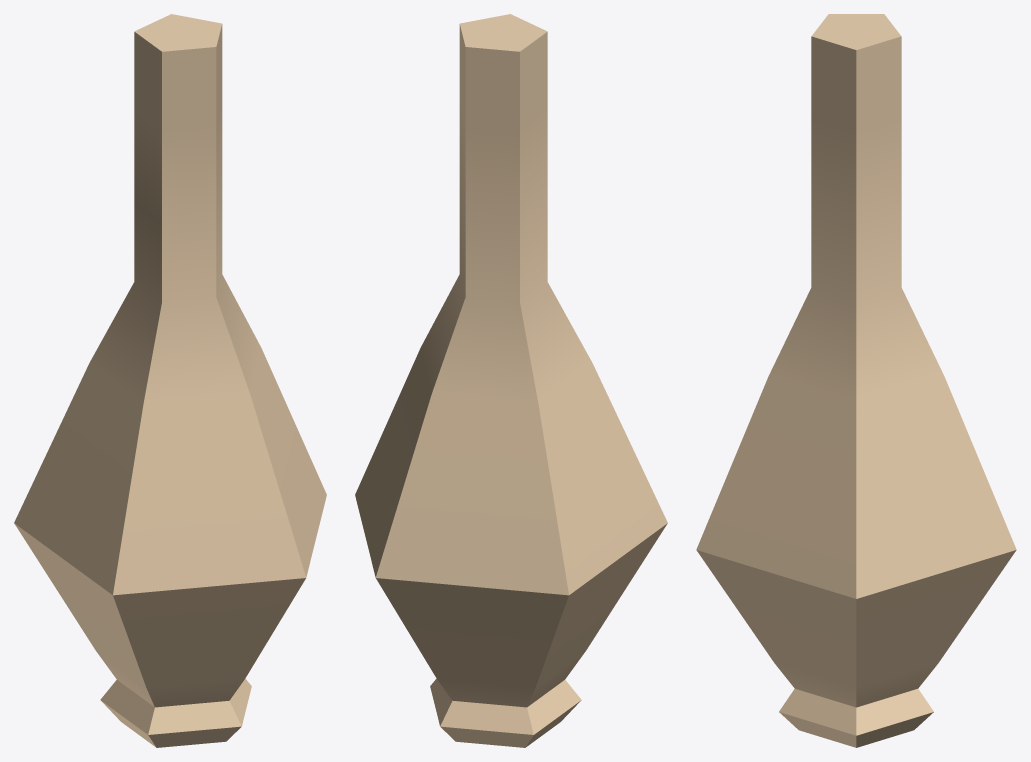
File: Props_jar_02.fbx
3 renders of one model, left to right at view 1: azimuth 30°, elevation 25°; view 2: azimuth 150°, elevation 25°; view 3: azimuth 270°, elevation 25°, orthographic.
Visible parts, largest first — view 1: jar6; view 2: jar6; view 3: jar6.
Boxes of the visible parts, left/top/right/bottom form: jar6: left=14, top=14, right=326, bottom=747; jar6: left=355, top=14, right=667, bottom=747; jar6: left=696, top=14, right=1016, bottom=747.
Size of the model in its own units: 37.22 by 93.26 by 39.13.
